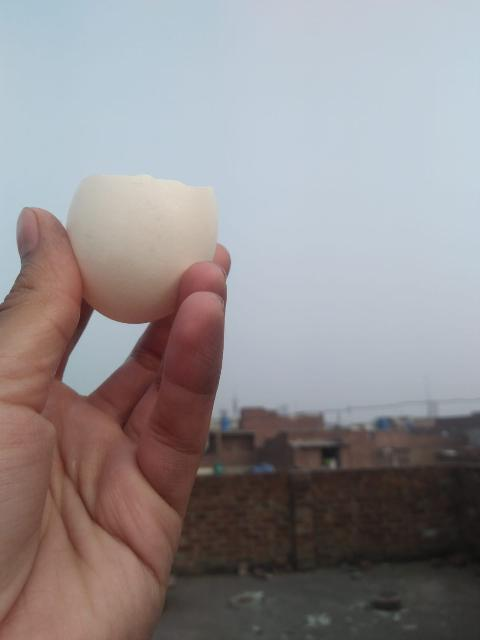Roto: (64, 172, 218, 324)
